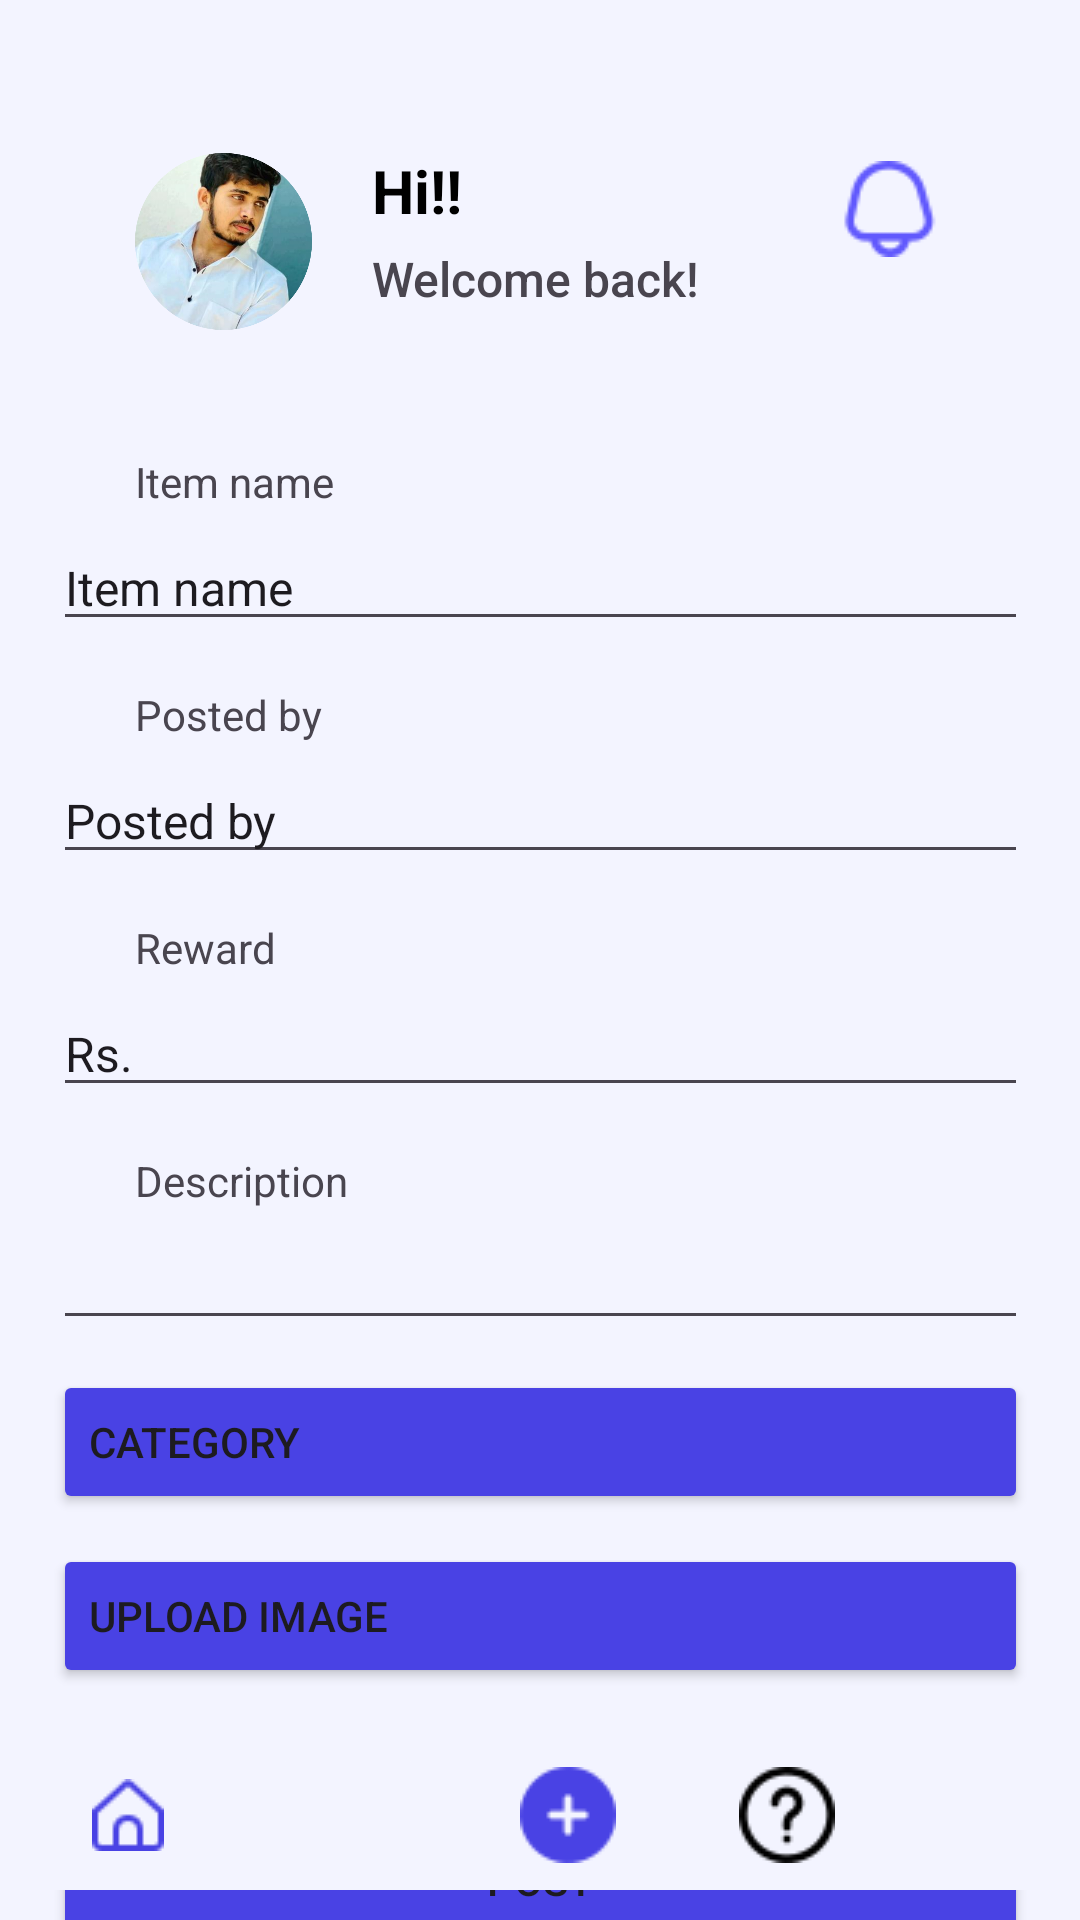

Icon click points for this 1080px×1920px phone screenshot, format [x,y]:
add: [568,1815]
bell: [889,209]
home: [128,1815]
interrogation: [787,1815]
profile modified: [223,241]
